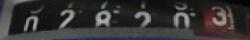digits: (23, 1, 45, 34), (94, 10, 112, 31), (58, 9, 76, 30), (210, 5, 228, 25), (172, 12, 190, 32), (134, 10, 151, 31)
